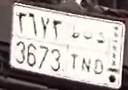3: (15, 11, 27, 65), (51, 19, 63, 72)
6: (26, 12, 38, 66)
7: (38, 17, 51, 70)
B: (92, 30, 93, 32)
D: (94, 31, 106, 75)
N: (81, 27, 94, 73)
T: (70, 25, 81, 71)
